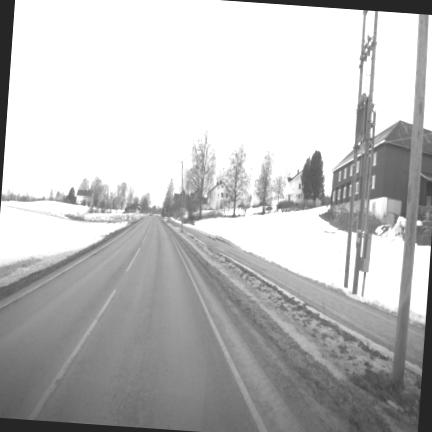Road: (0, 218, 305, 431)
